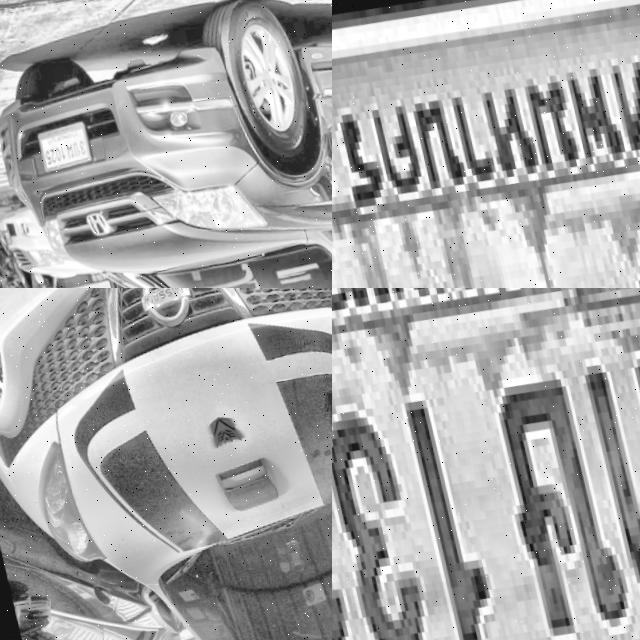license-plate: (332, 288, 640, 640), (332, 0, 640, 288), (23, 111, 94, 176)
